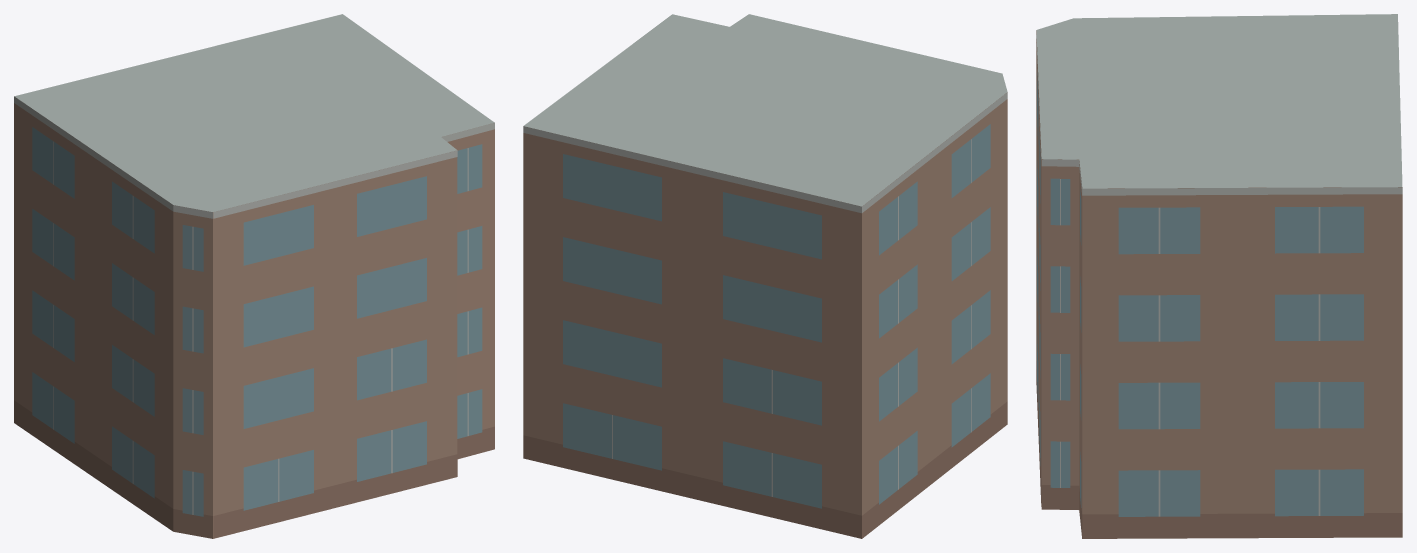
The model's file is survey-upis-32805358.glb.
The picture shows the model from 3 angles, left to right: view 1: azimuth 30°, elevation 25°; view 2: azimuth 150°, elevation 25°; view 3: azimuth 270°, elevation 25°; orthographic projection. The views are drawn at different scales.
Visible parts, largest first — view 1: survey-upis-32805358.tmp; view 2: survey-upis-32805358.tmp; view 3: survey-upis-32805358.tmp.
Part boxes in pixels (x1,y1,x2,y2): survey-upis-32805358.tmp: [14, 14, 494, 538]; survey-upis-32805358.tmp: [523, 14, 1007, 538]; survey-upis-32805358.tmp: [1036, 14, 1402, 538].
Bounding box in the file's own units: 12.83 × 12 × 11.38.
